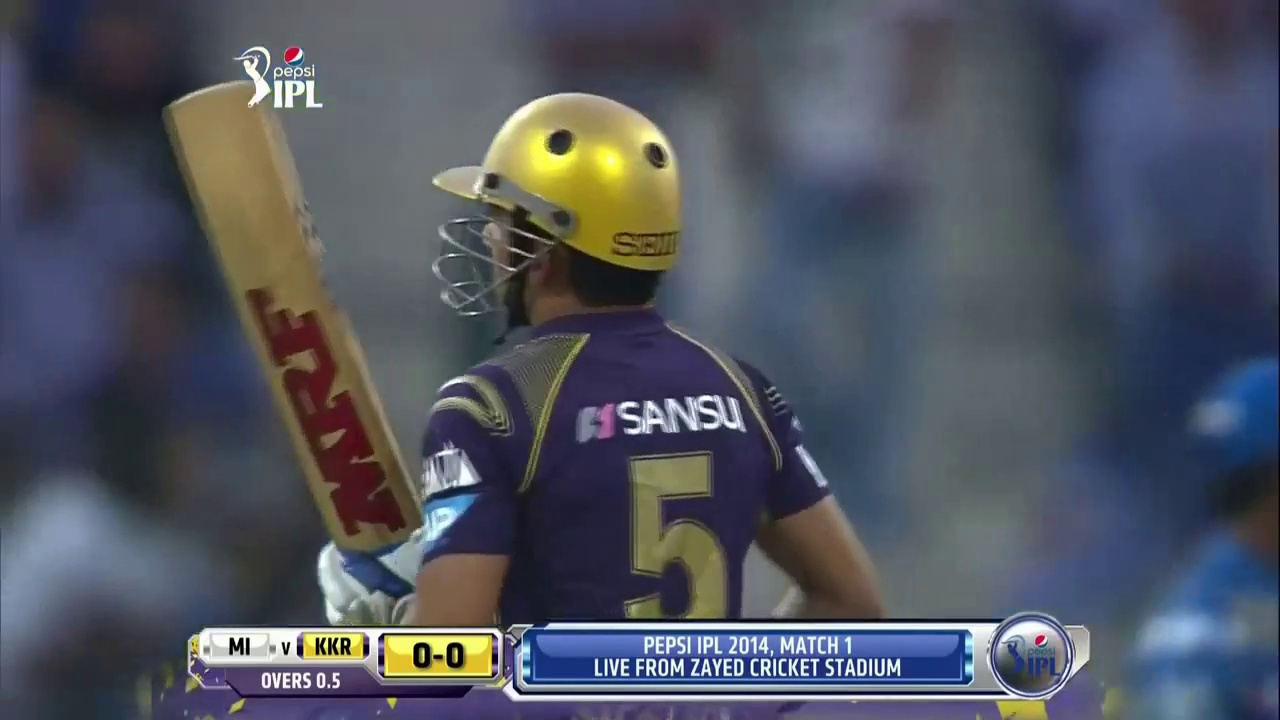bat: (159, 108, 420, 496)
